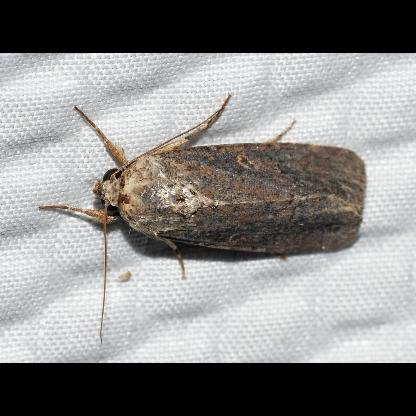Fall Armyworm Moth: (37, 92, 371, 346)
